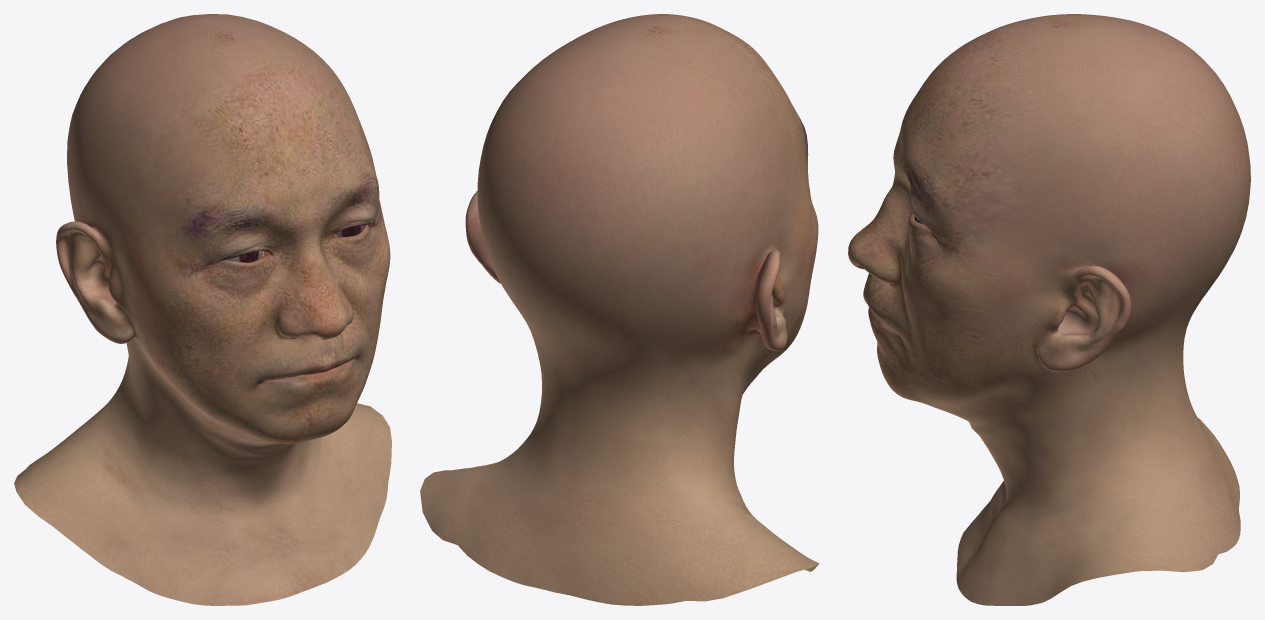
3 views of the same model, side by side, from view 1: azimuth 30°, elevation 25°; view 2: azimuth 150°, elevation 25°; view 3: azimuth 270°, elevation 25° (orthographic). The views are drawn at different scales.
Visible parts, largest first — view 1: Registered head; view 2: Registered head; view 3: Registered head.
Boxes of the visible parts, <box> form: Registered head: <box>14,14,391,605</box>; Registered head: <box>420,14,819,605</box>; Registered head: <box>848,14,1250,605</box>.
Size of the model in its own units: 1.3 by 1.83 by 1.23.
Materials: 3 (3 with a texture image).
